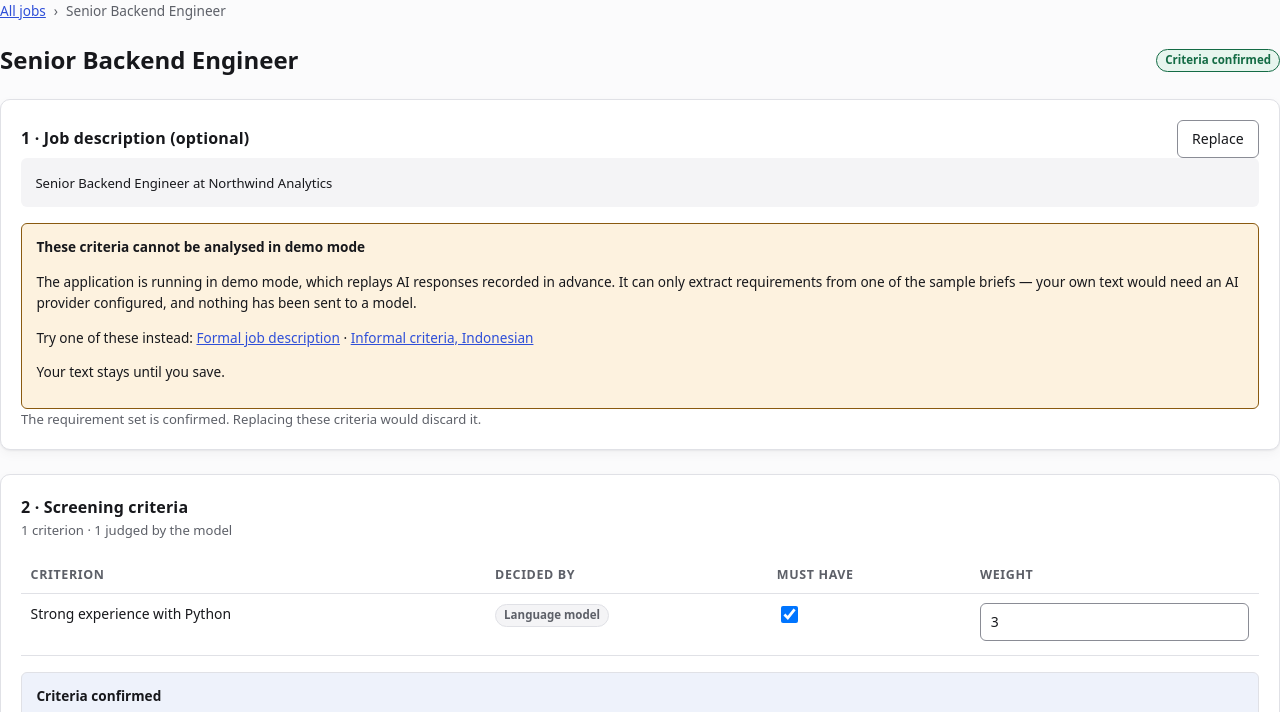
Test case: inline requirement edits › shows the weight the server stored, not the one that was typed
Step 1. Replace the text in the number field named "weight for: strong experience with python" with "7.005" → (1115, 622), box [980, 603, 1249, 641]
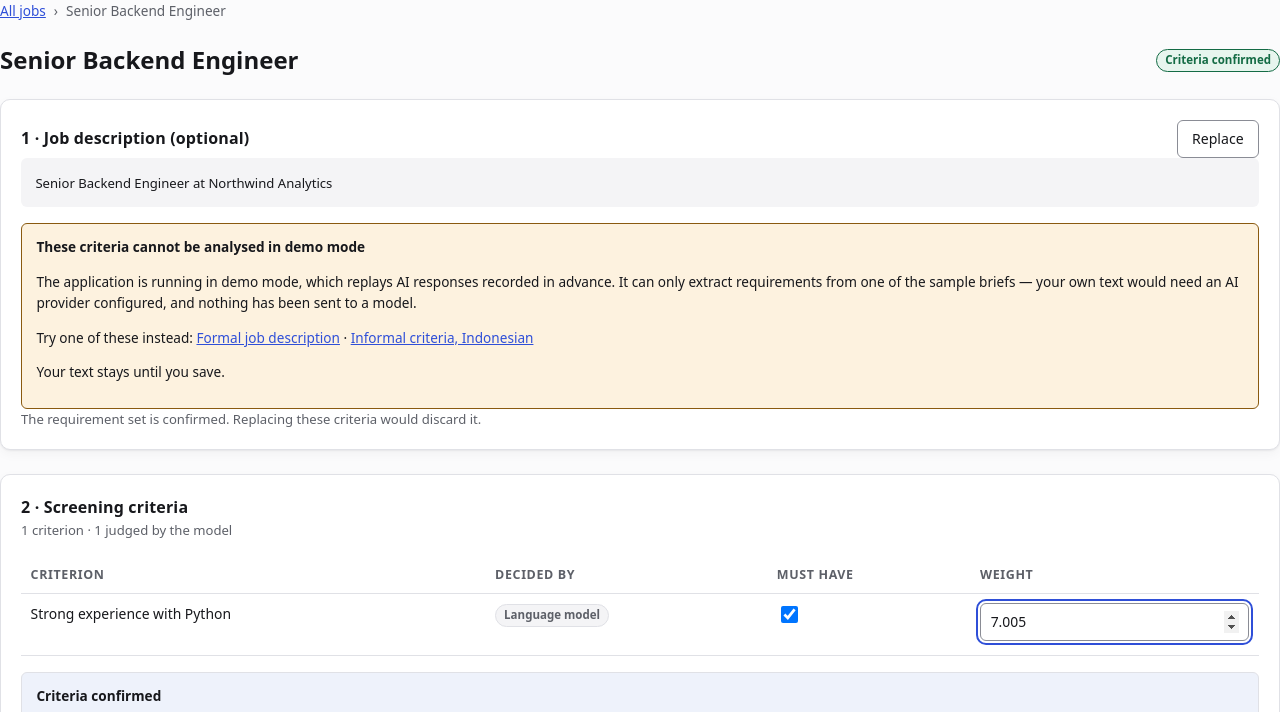
Step 2. Press Tab
(page scrolled)
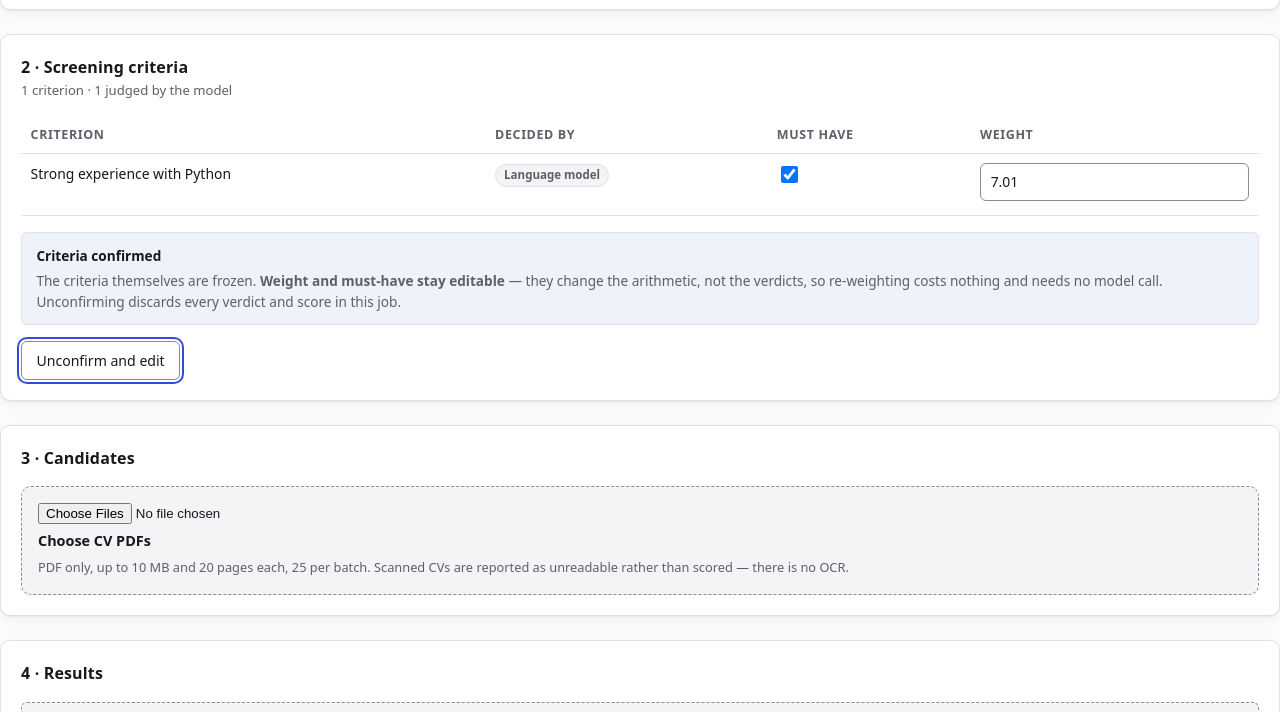
Result: the number field named "weight for: strong experience with python" holds "7.01" at [980, 163, 1249, 201]
